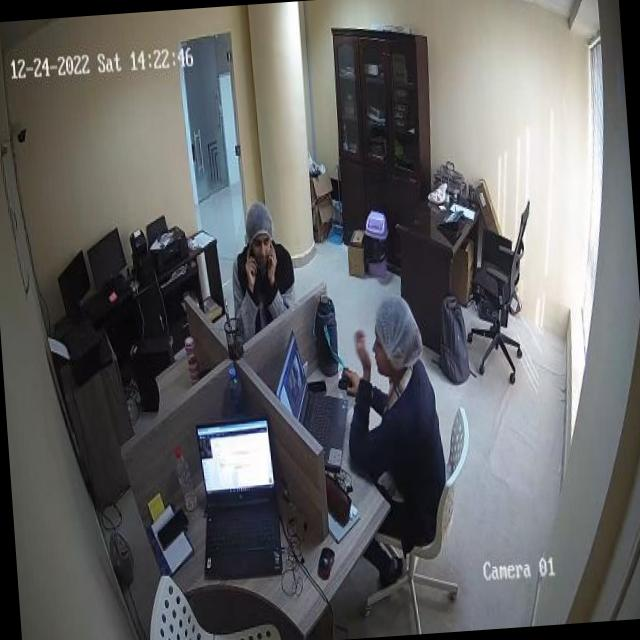hairnet: (376, 298, 422, 359), (242, 201, 272, 238)
